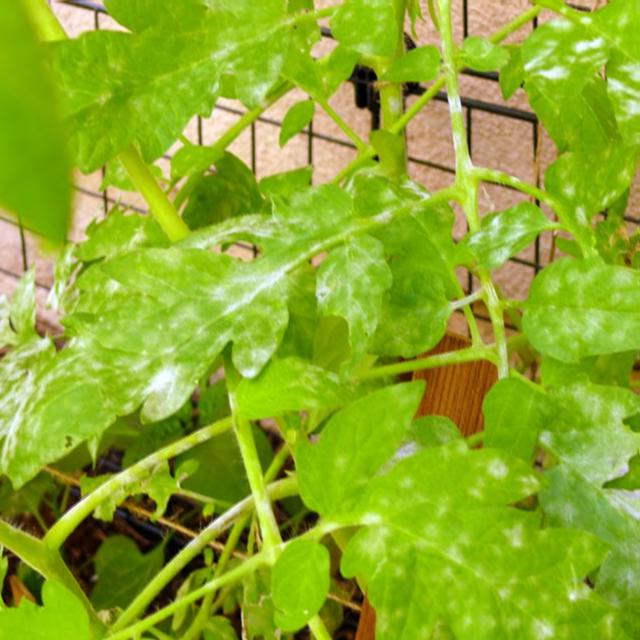Tomato mold leaf: (9, 181, 389, 492), (284, 378, 623, 640), (14, 0, 339, 156), (579, 0, 640, 481), (504, 253, 640, 358), (448, 200, 540, 271)
